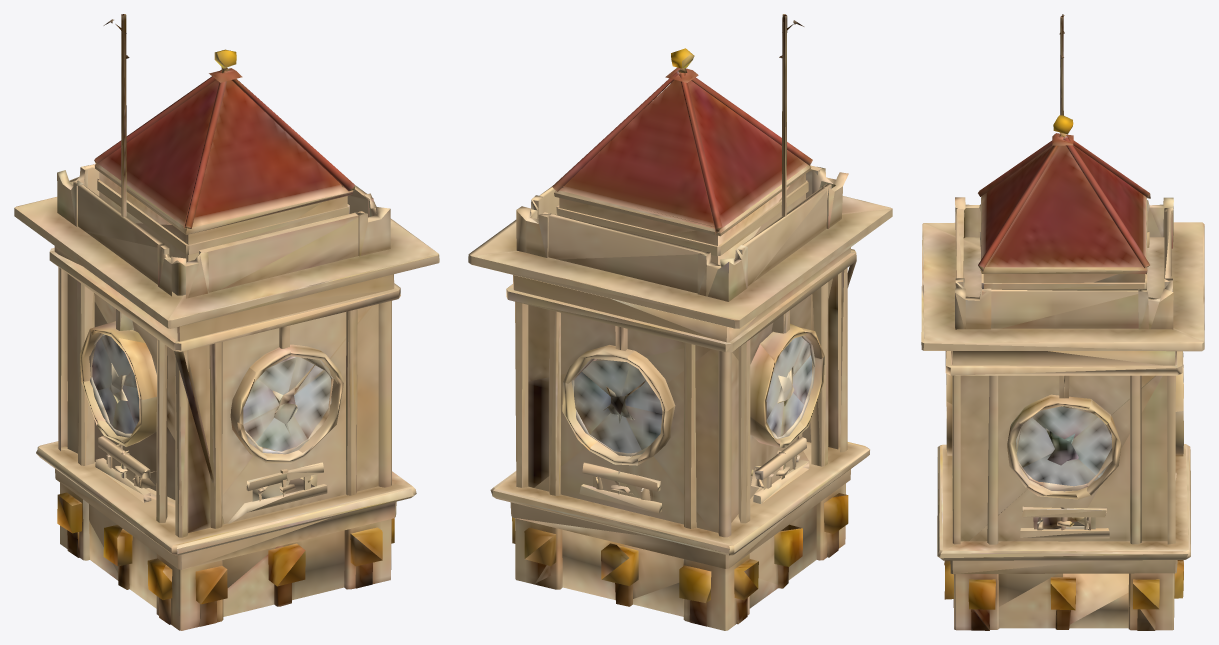
File: clock-tower-top.lod1.glb
3 views of the same model, side by side, from view 1: azimuth 30°, elevation 25°; view 2: azimuth 150°, elevation 25°; view 3: azimuth 270°, elevation 25° (orthographic). The views are drawn at different scales.
Size of the model in its own units: 4.25 by 8.53 by 4.2.
Materials: 1 (1 with a texture image).
